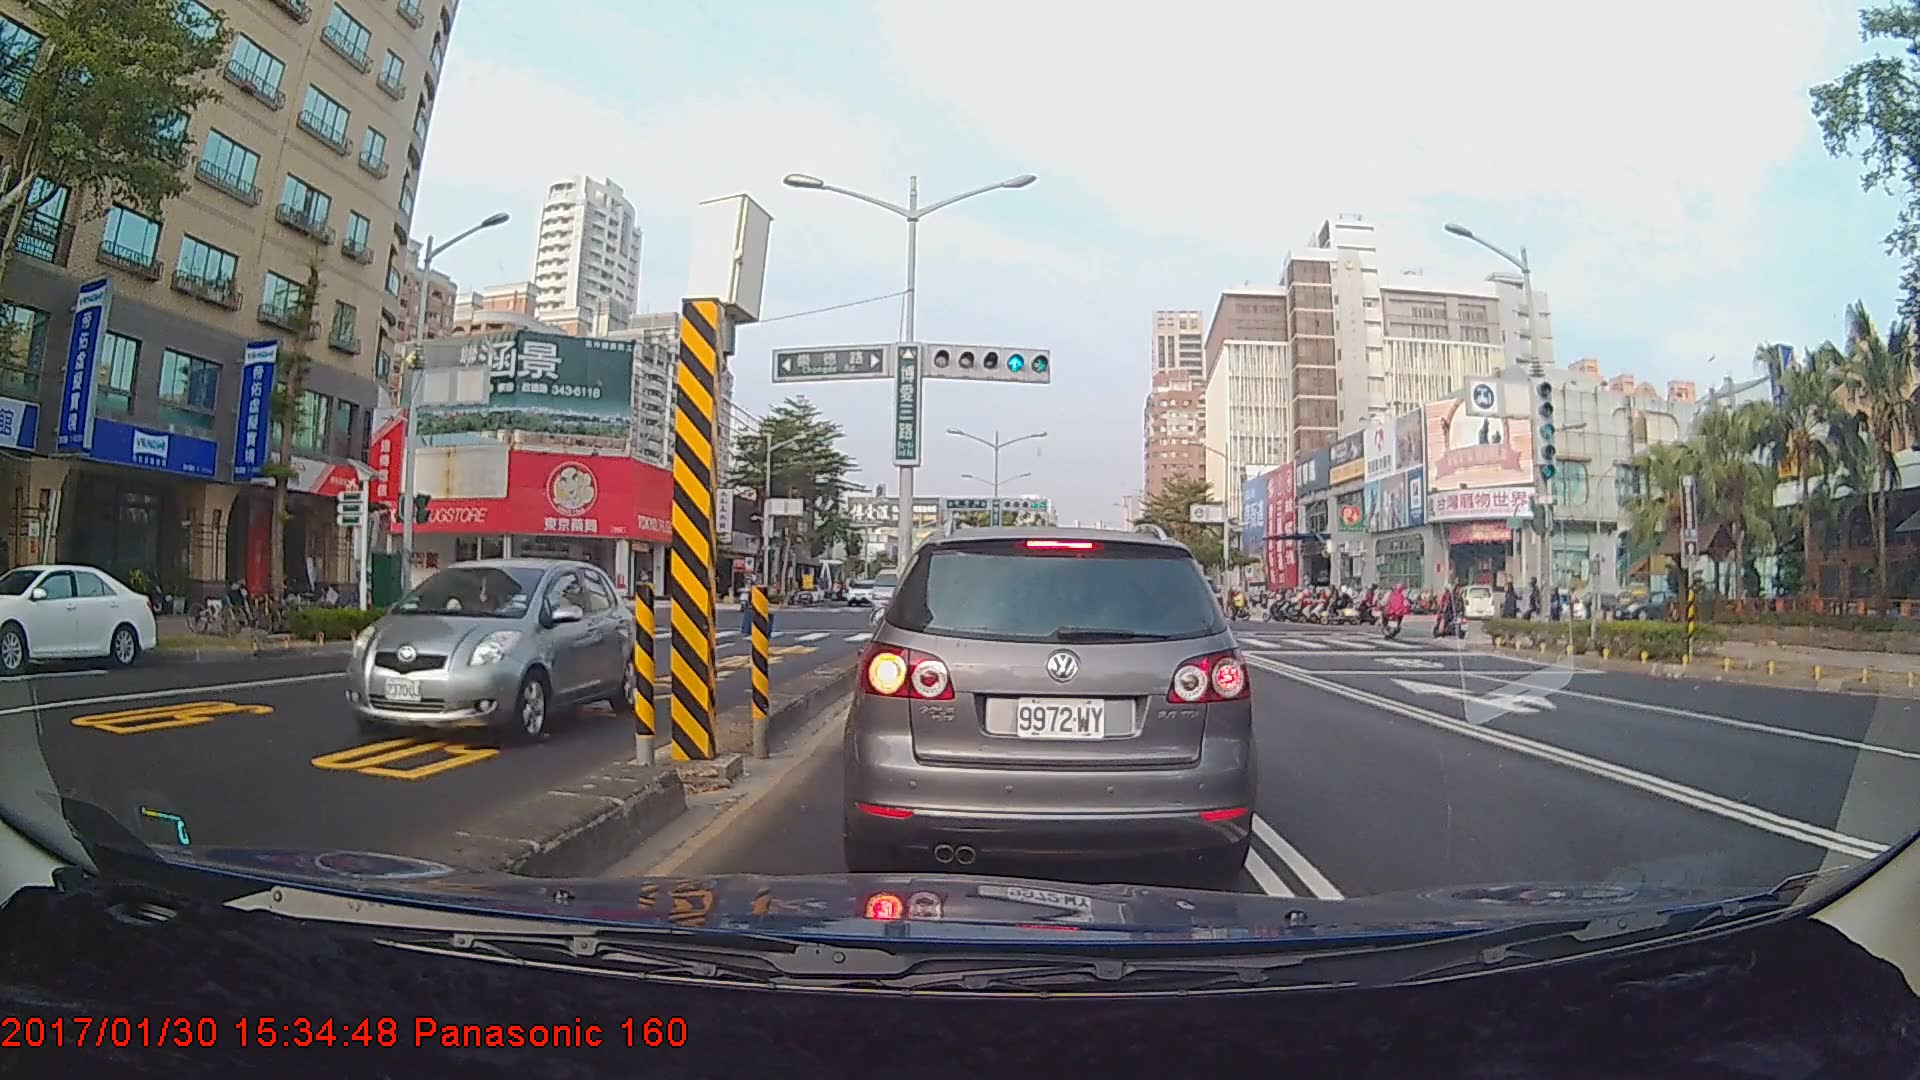pedestrian: (1497, 579, 1526, 637)
rider: (1436, 582, 1473, 646), (1382, 580, 1416, 640)
vehicle: (852, 520, 1251, 884), (340, 556, 640, 744), (0, 561, 158, 671)
